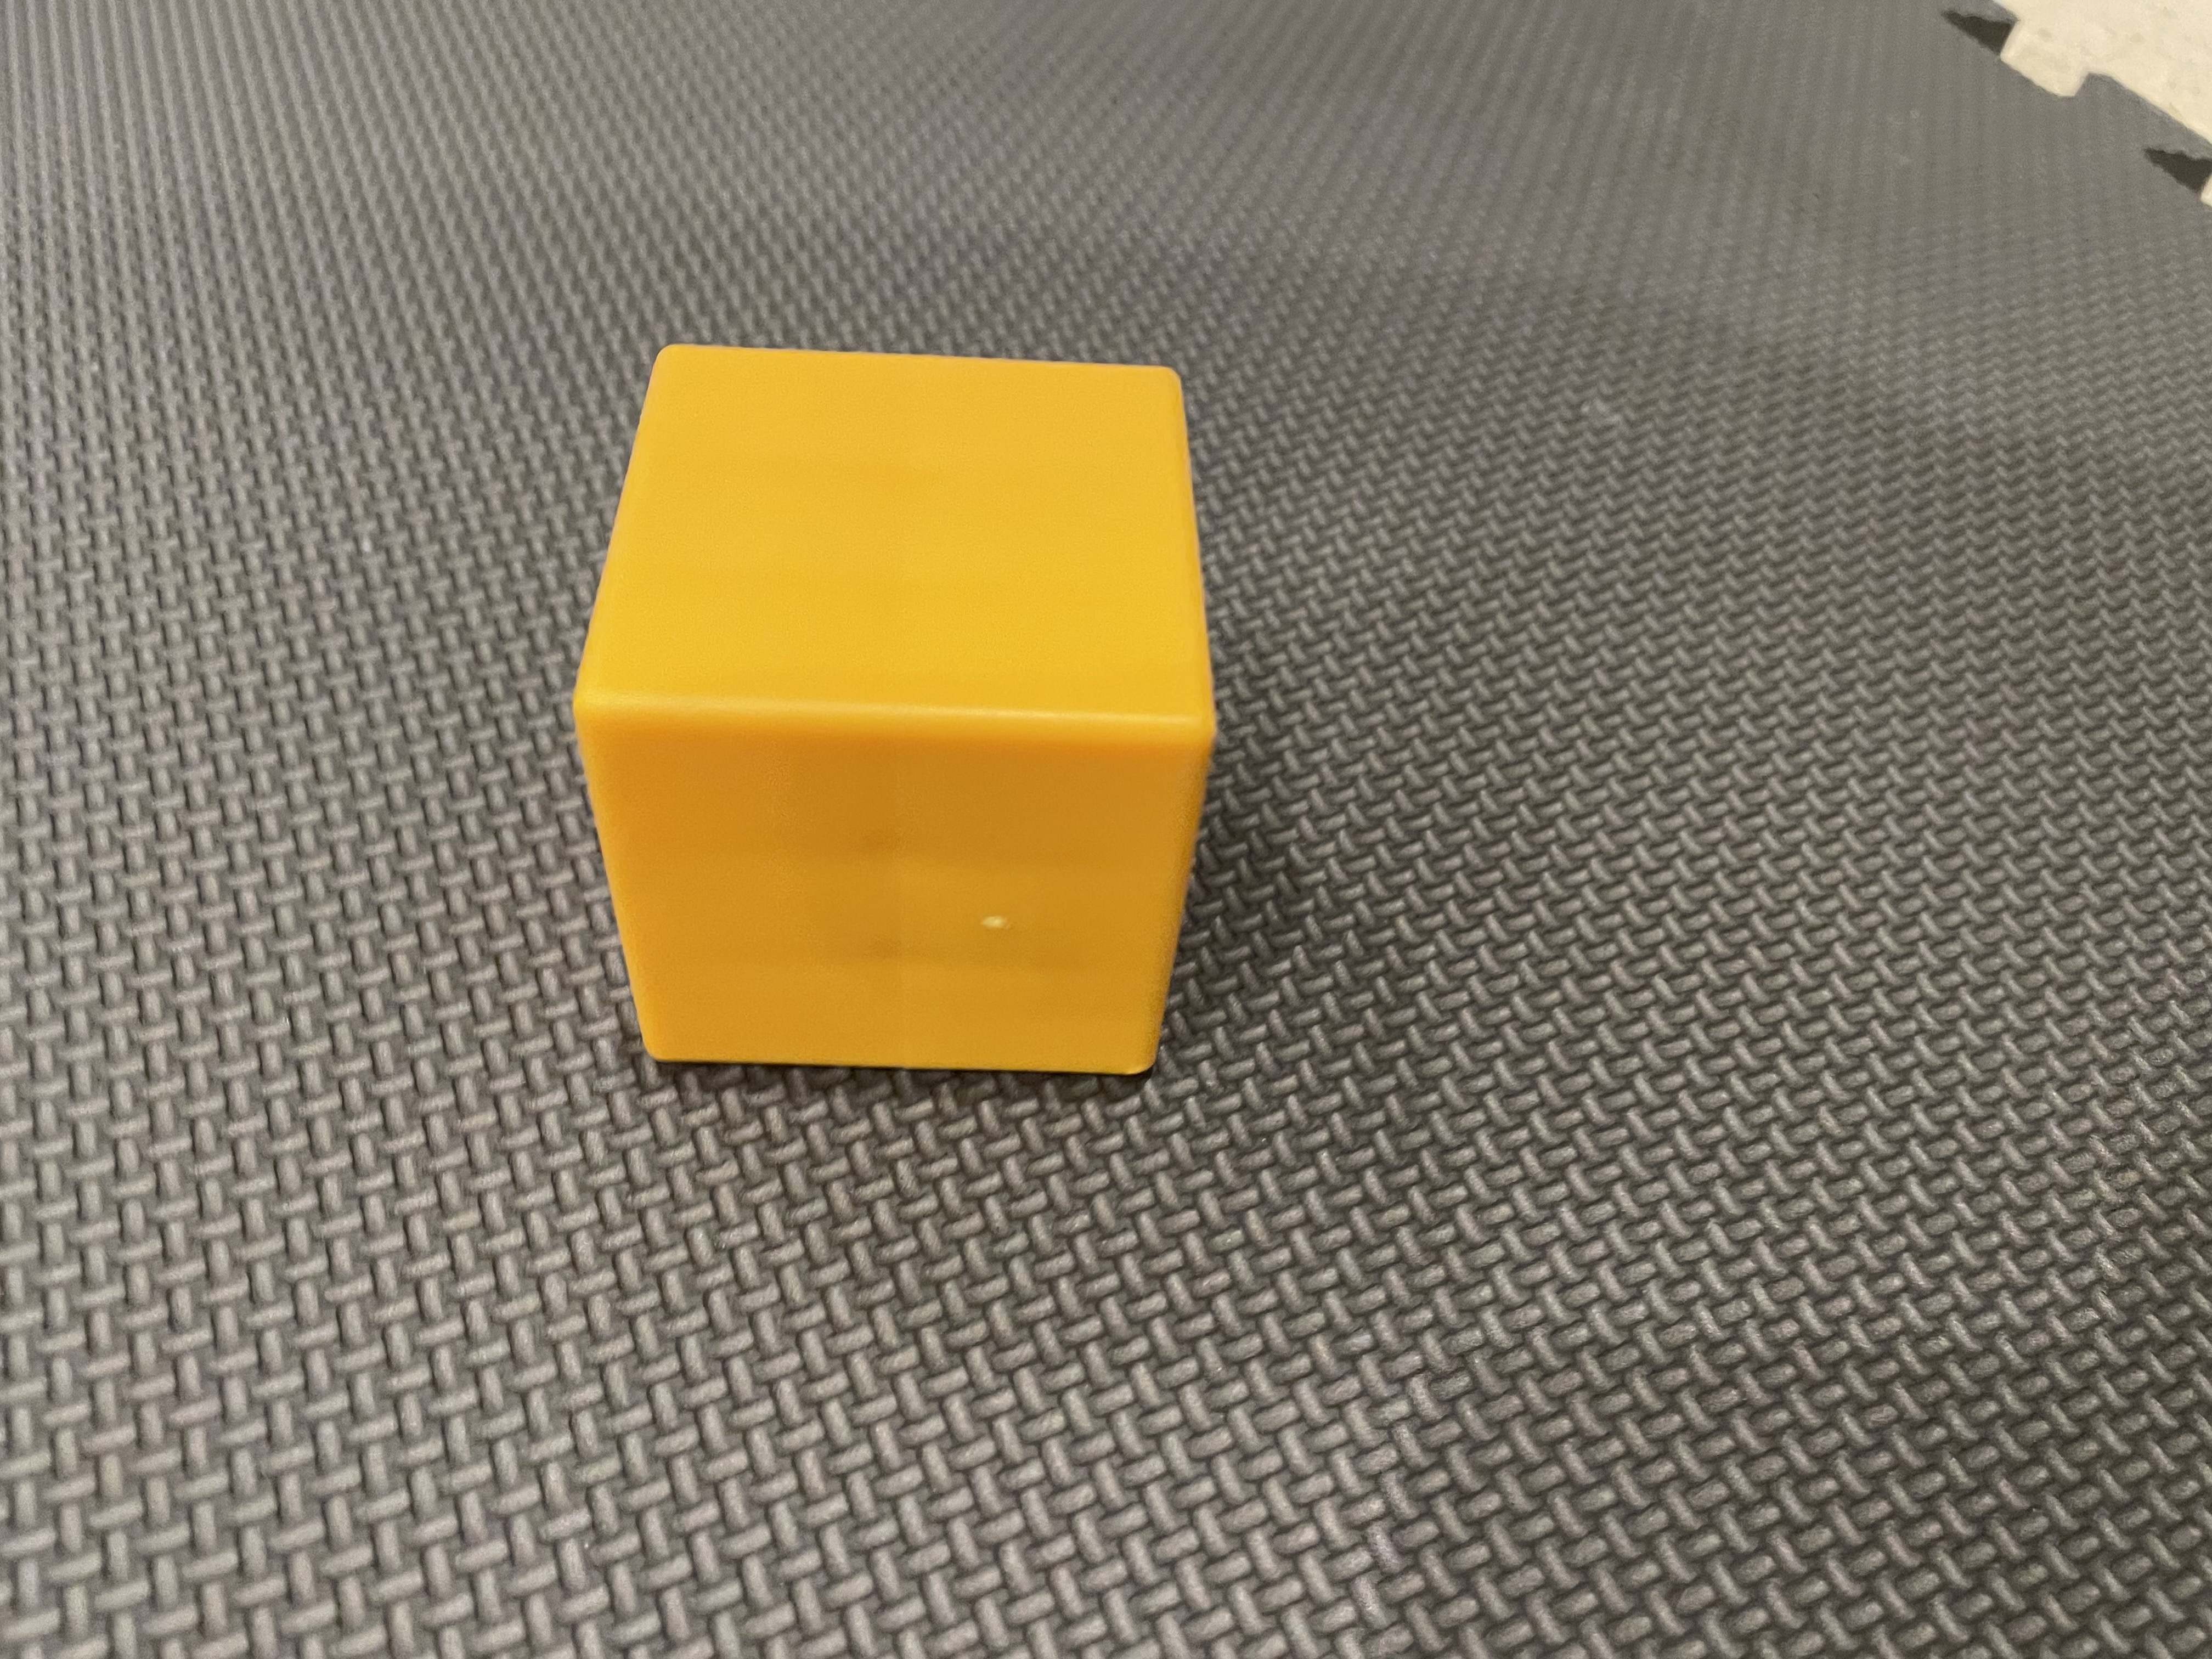cube: (510, 282, 1334, 1178)
